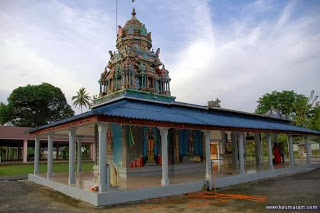Hindu Temple: (87, 7, 178, 171)
